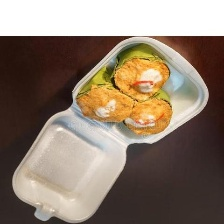foam_box: (7, 35, 212, 224)
